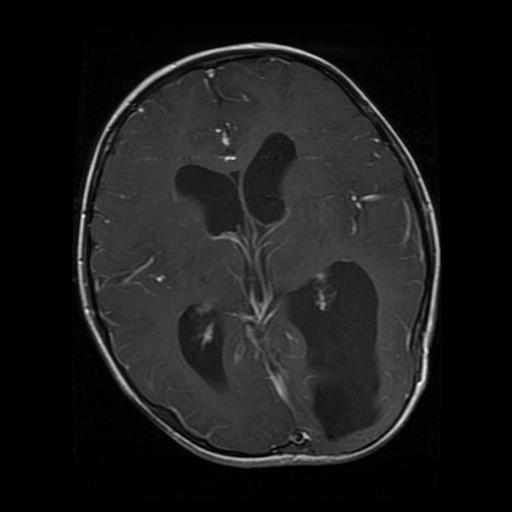Tumour-Glioma: (276, 343, 409, 434)
